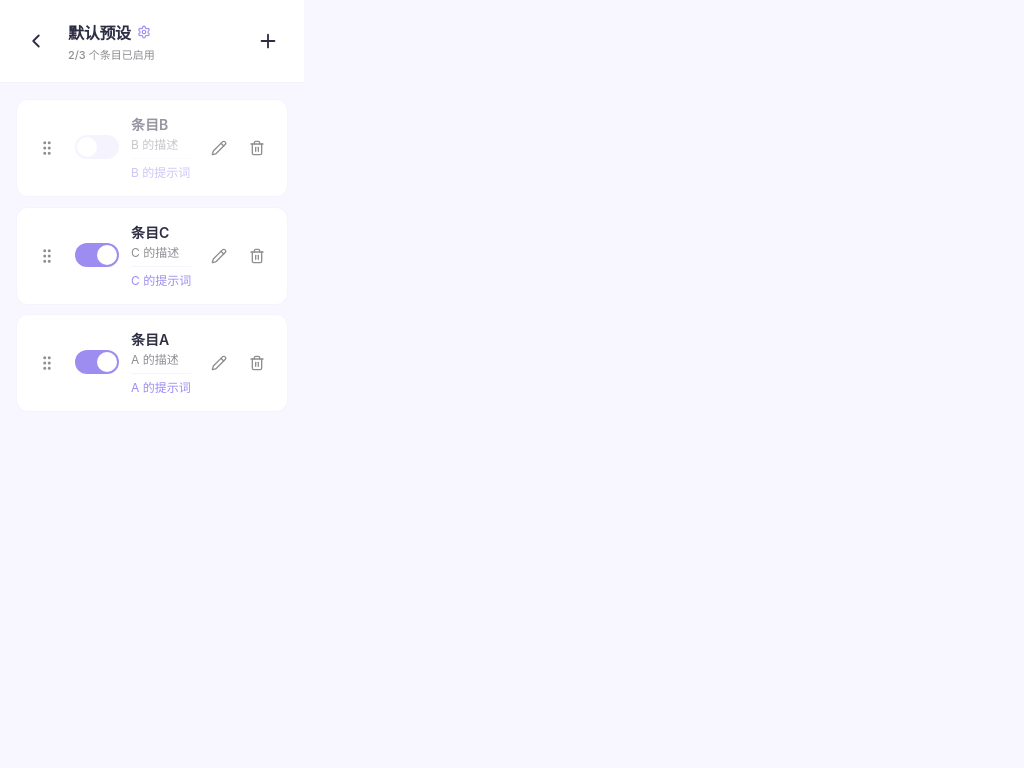
Scenario: PromptPresetPage 条目操作 › 新建条目：空名称禁止保存，填写后接在末尾落库并提示
Expected: the element showing "条目B B 的描述 B 的提示词" is shown, [16,99,288,197]
// 头部右侧是「+」图标按钮
Click the 2nd button with class "nav-btn": (268, 41) [248,21,288,61]
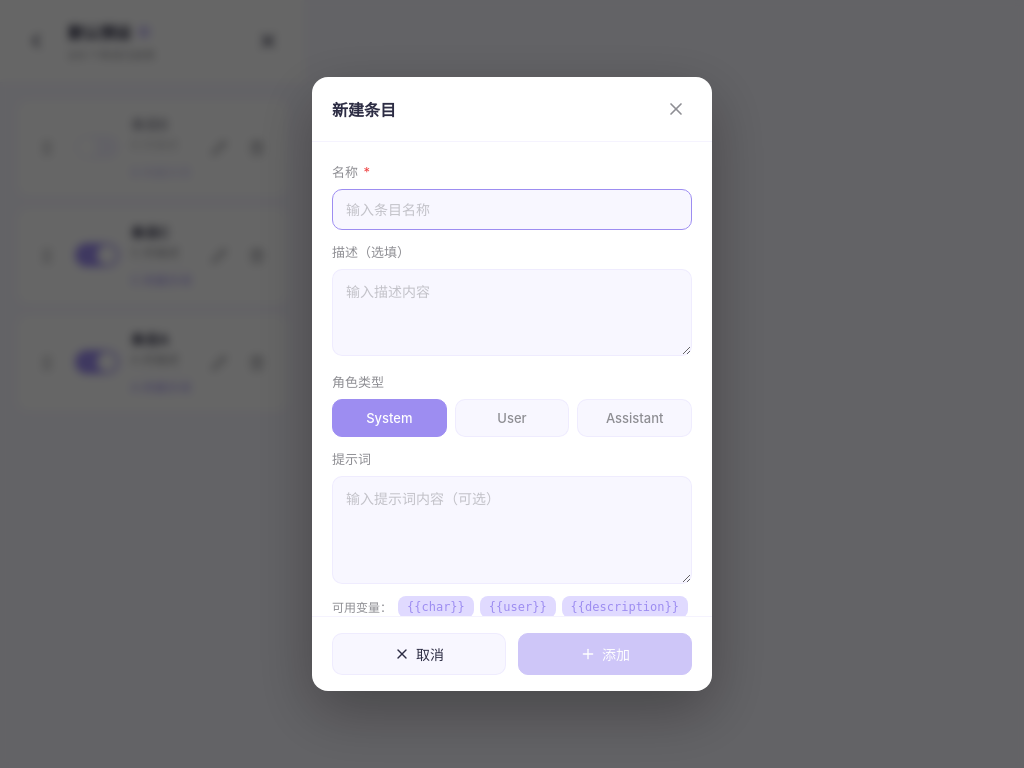
Now the text "新建条目" is shown, box [332,97,396,121]
Now the button "添加" is disabled, box [518,633,692,675]
In the field with placeholder "输入条目名称": (512, 209) [332,189,692,230], type "新条目"
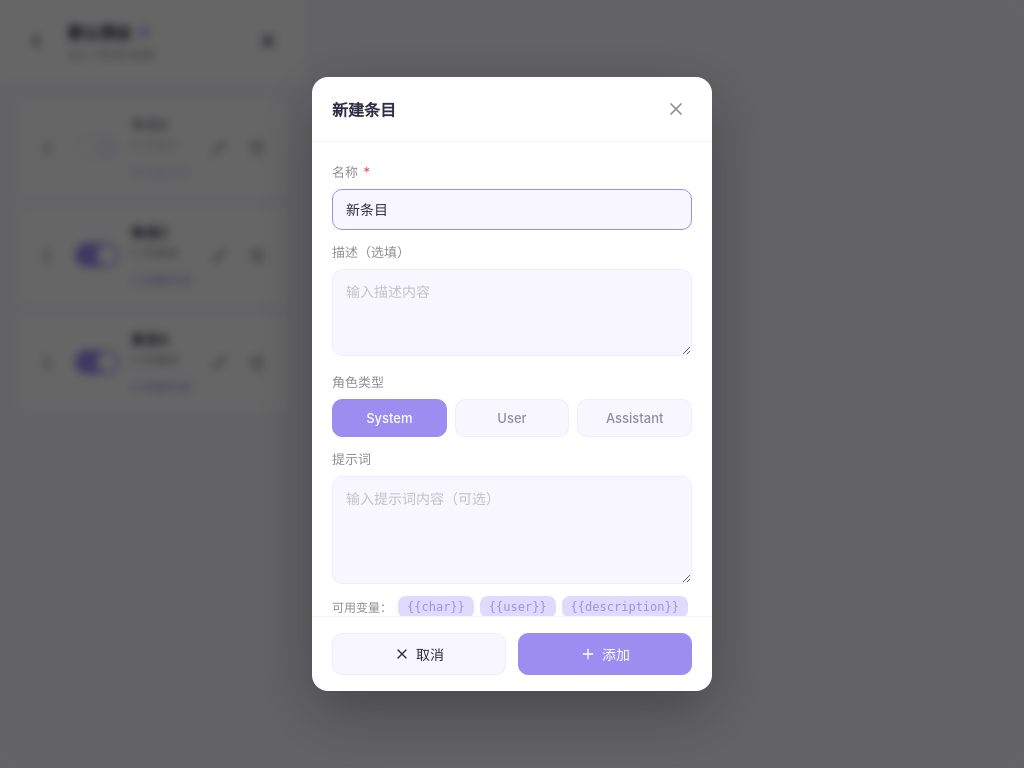
// 弹窗里有两个 textarea：0 是描述、1 是提示词
In the text box with placeholder "输入描述内容": (512, 312) [332,269,692,356], type "新条目的描述"
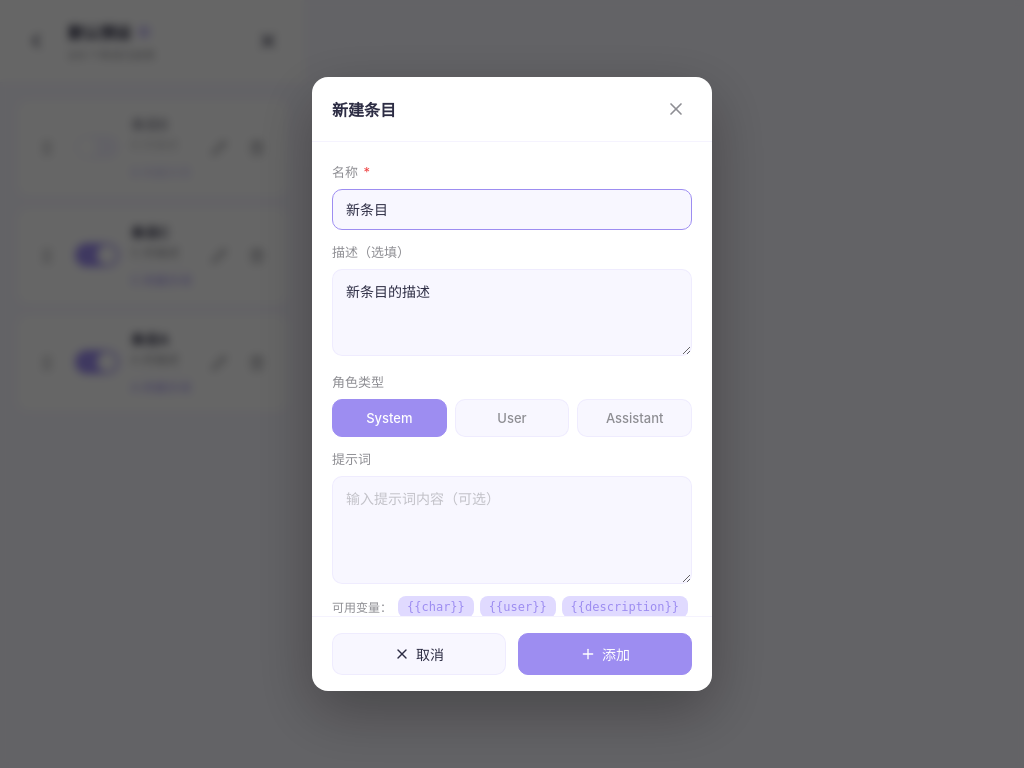
In the text box with placeholder "输入提示词内容（可选）": (512, 530) [332,476,692,584], type "新条目的提示词"
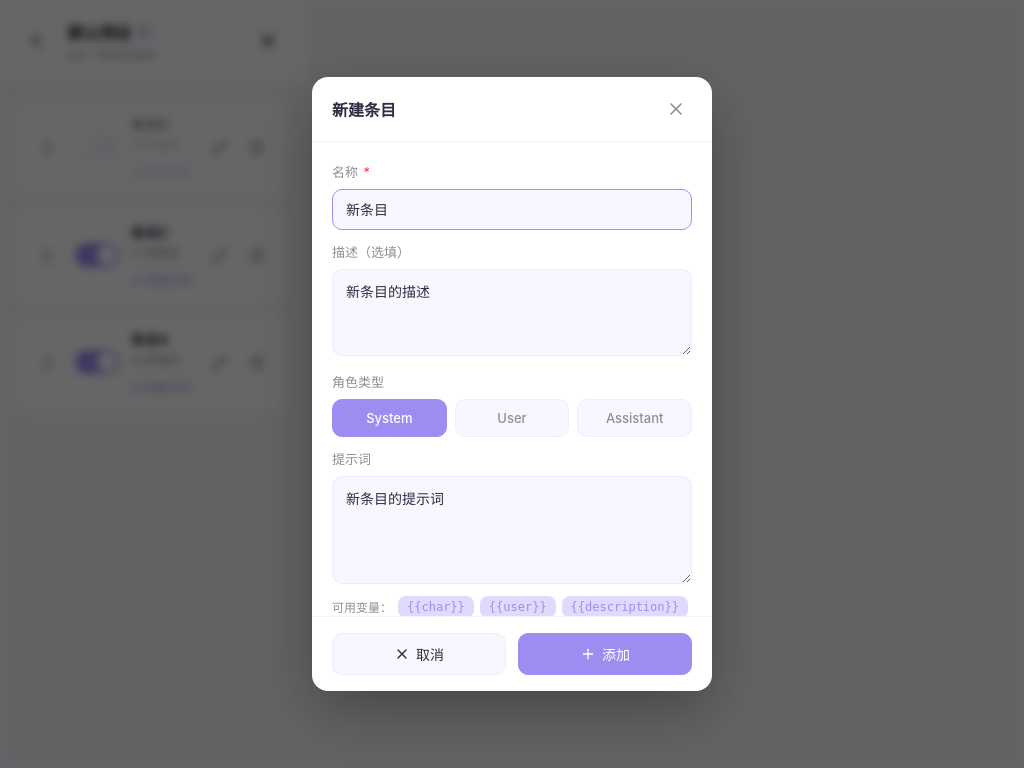
Now the button "添加" is enabled, box [518,633,692,675]
Click the button with class "role-type-btn" showing "User": (512, 418) [455,399,569,437]
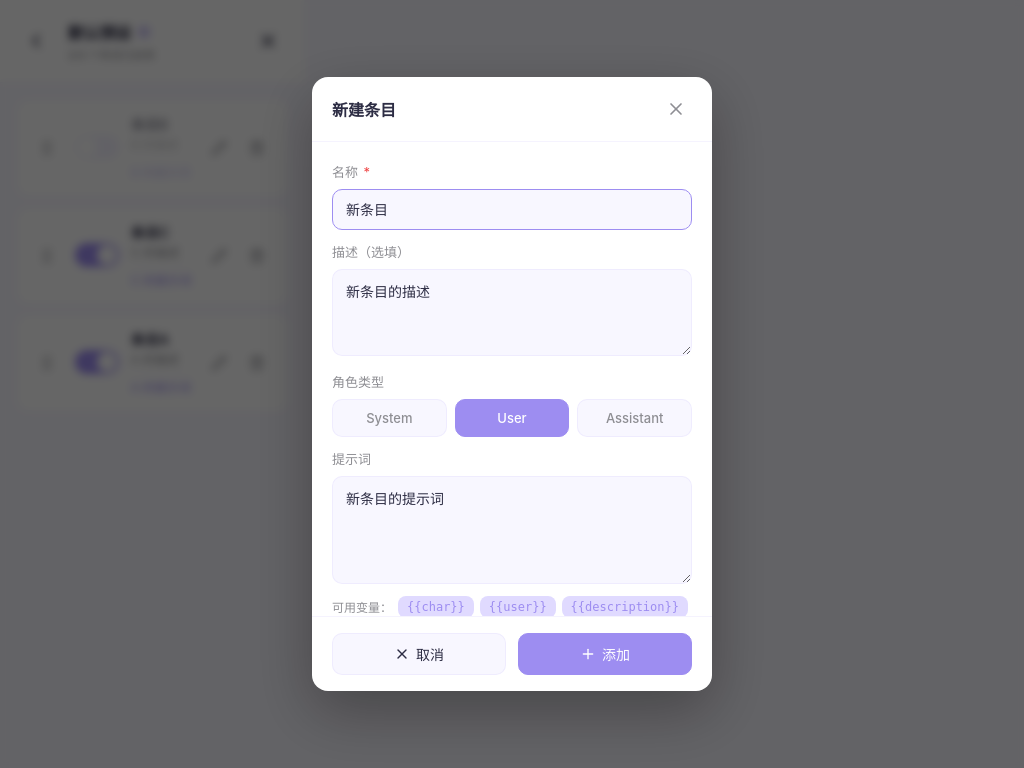
Click the button "添加": (605, 654) [518,633,692,675]
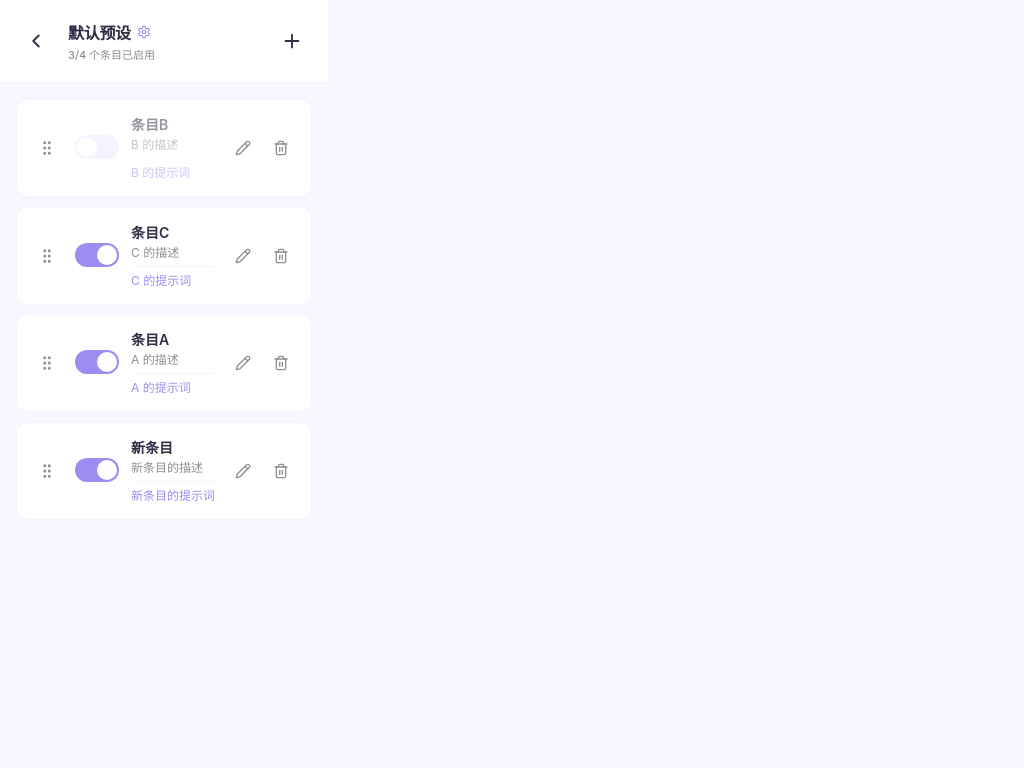
Now the text "新条目的描述" is shown, box [131,460,215,477]
Now the text "新条目的提示词" is shown, box [131,481,215,504]
Now the text "新建条目" is gone
